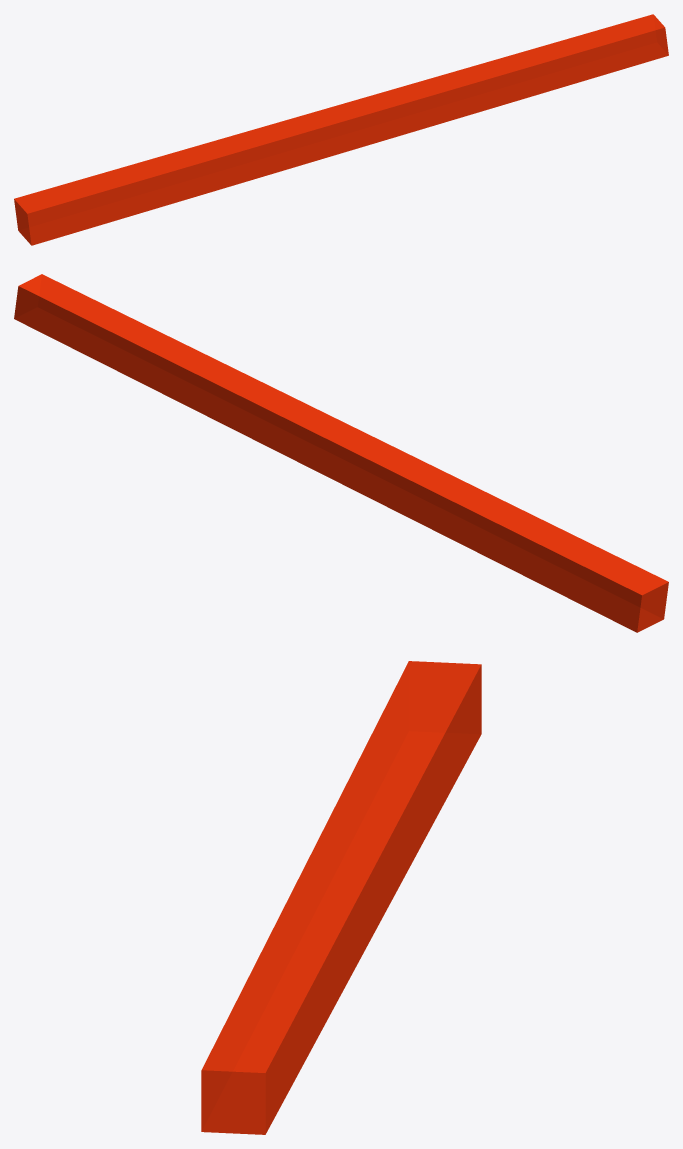
File: Event_421115418_EErechit_62.fbx
3 renders of one model, top to bottom at view 1: azimuth 30°, elevation 25°; view 2: azimuth 150°, elevation 25°; view 3: azimuth 270°, elevation 25°, orthographic. The views are drawn at different scales.
Visible parts, largest first — view 1: Model; view 2: Model; view 3: Model.
Part boxes in pixels (bbox=[...]): Model: bbox=[14, 14, 668, 245]; Model: bbox=[14, 274, 668, 632]; Model: bbox=[201, 661, 481, 1134].
Size of the model in its own units: 1.54 by 0.2841 by 0.3137.
